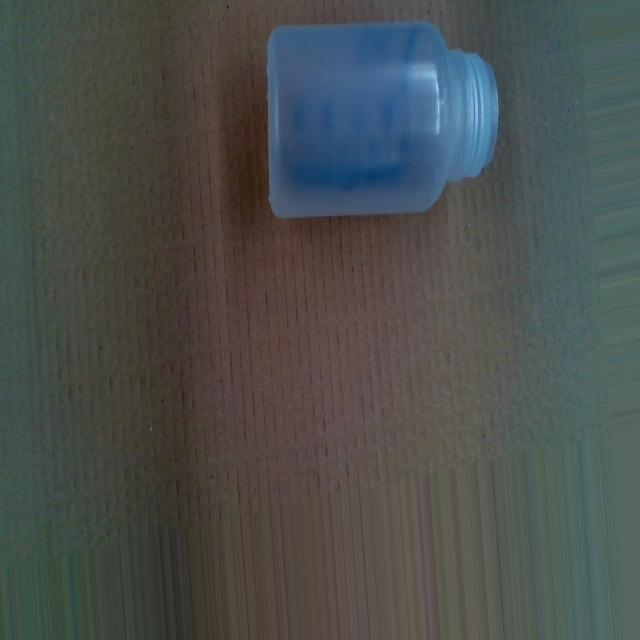bottle: (261, 12, 502, 222)
